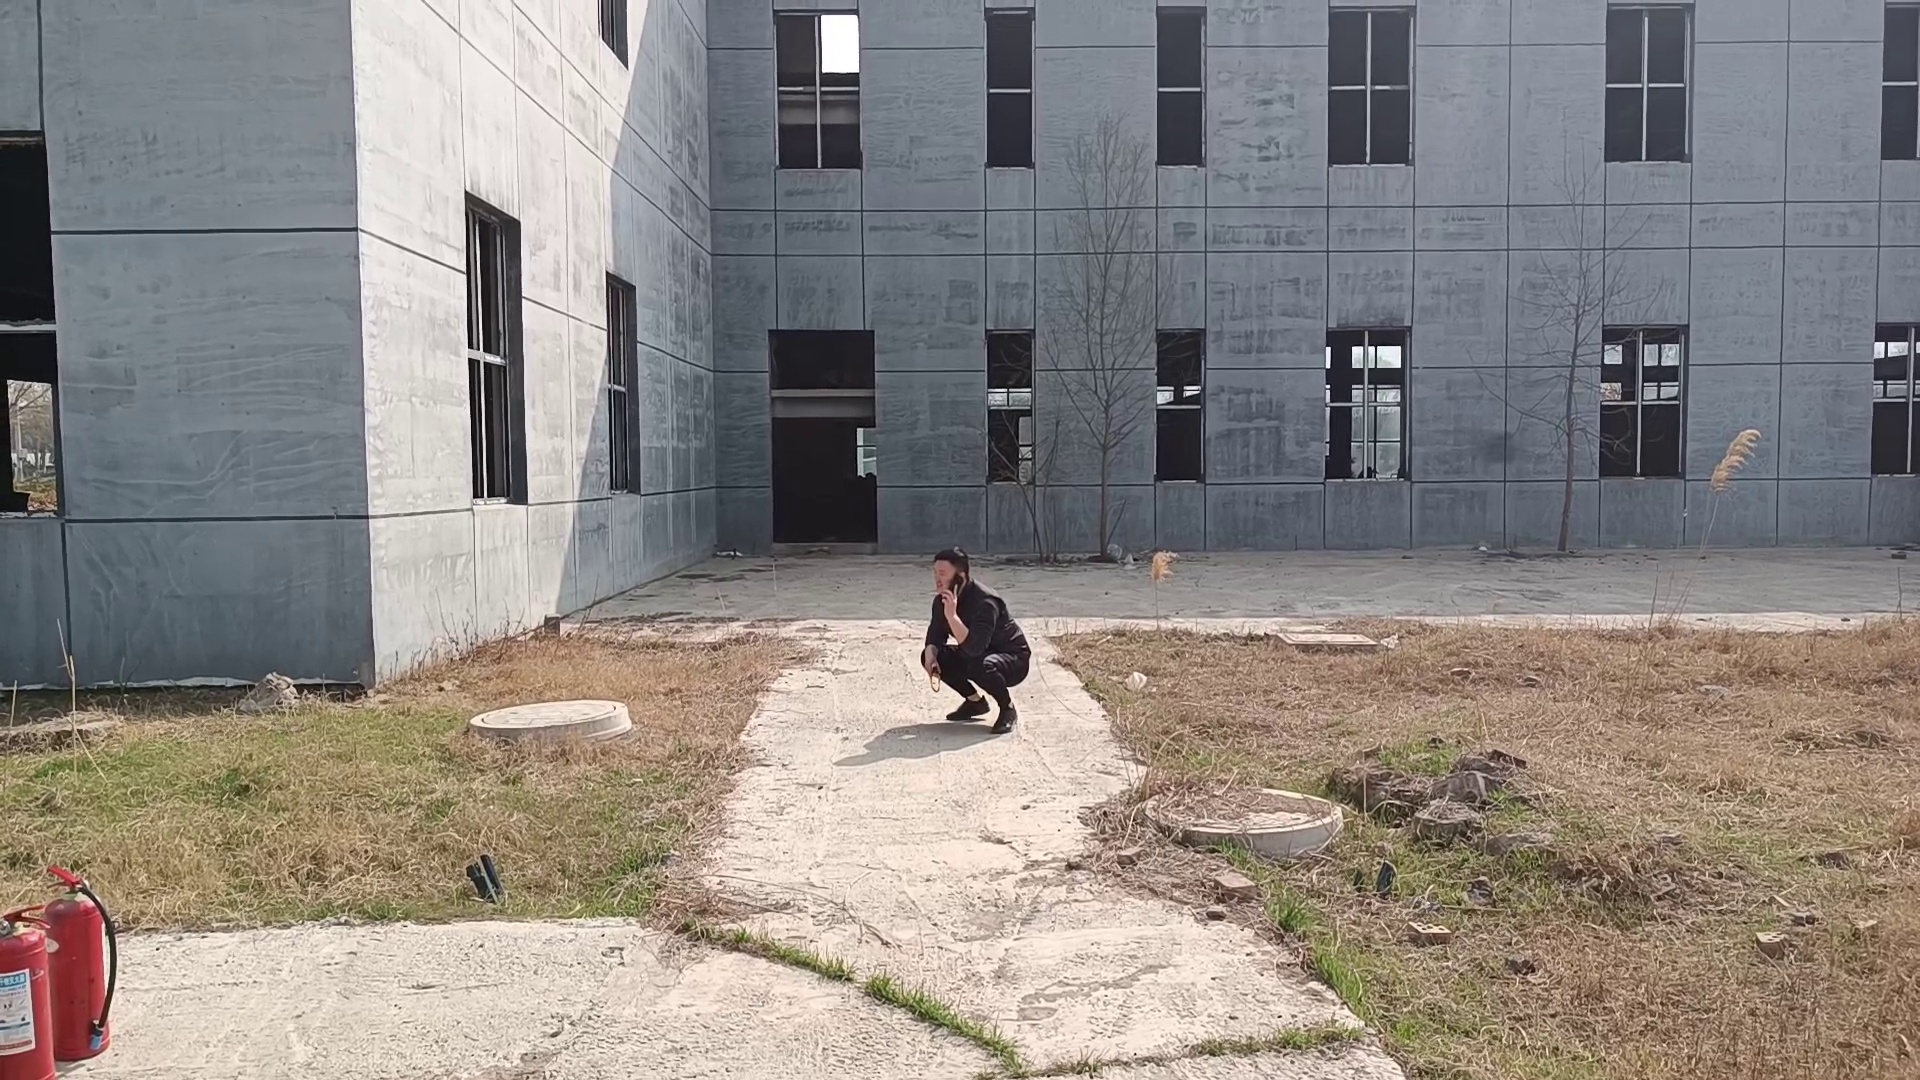phone: (924, 542, 978, 611)
